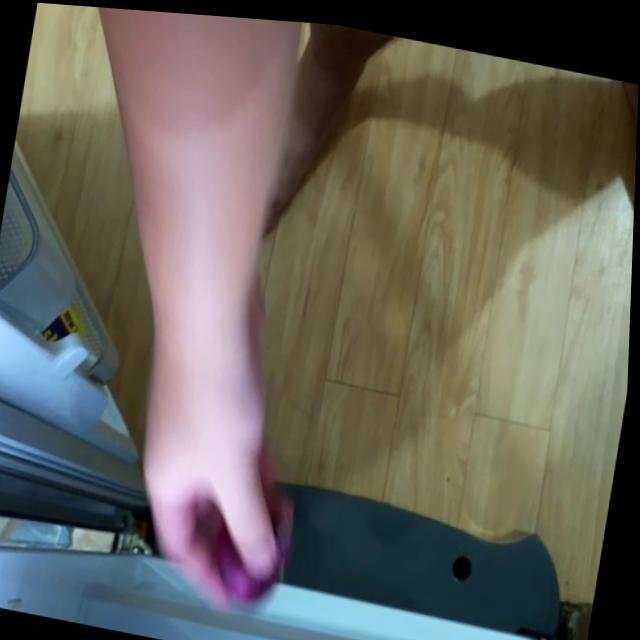onion: (209, 502, 297, 605)
